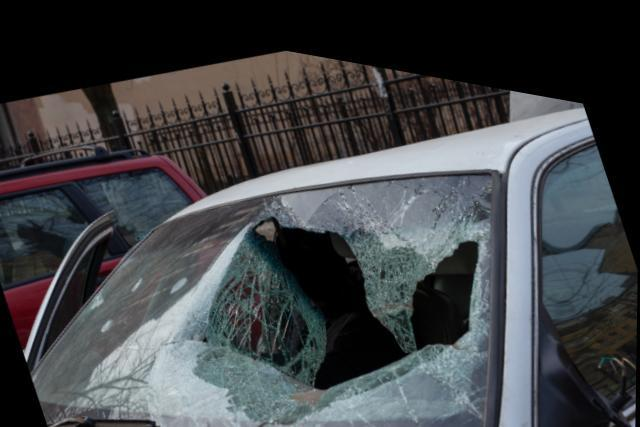glass shatter: (32, 153, 491, 427)
